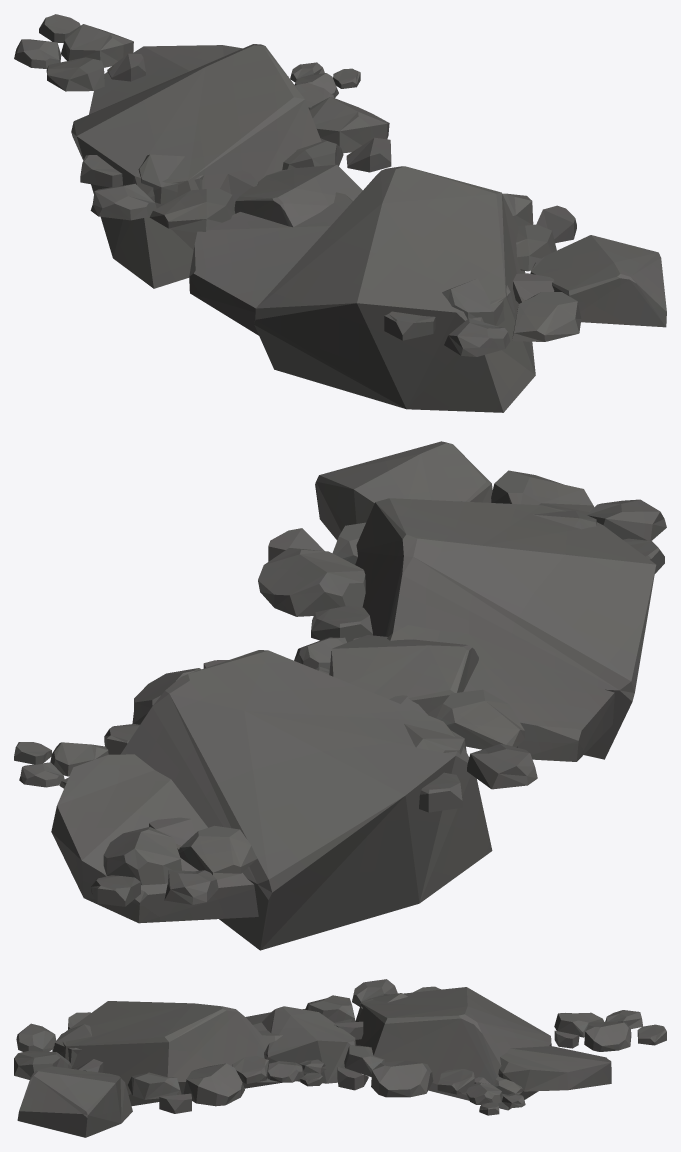
The model's file is Rock_Debris_03.fbx.
3 views of the same model, one above another, from view 1: azimuth 30°, elevation 25°; view 2: azimuth 150°, elevation 25°; view 3: azimuth 270°, elevation 25° (orthographic). The views are drawn at different scales.
Parts seen in each view (by area): view 1: SM_Rock_Debris_03.mo; view 2: SM_Rock_Debris_03.mo; view 3: SM_Rock_Debris_03.mo.
Part boxes in pixels (left/top/right/bottom): SM_Rock_Debris_03.mo: left=14, top=14, right=666, bottom=412; SM_Rock_Debris_03.mo: left=14, top=441, right=666, bottom=950; SM_Rock_Debris_03.mo: left=14, top=979, right=666, bottom=1137.
Size of the model in its own units: 216 by 88.34 by 443.
Materials: 1 (1 with a texture image).
